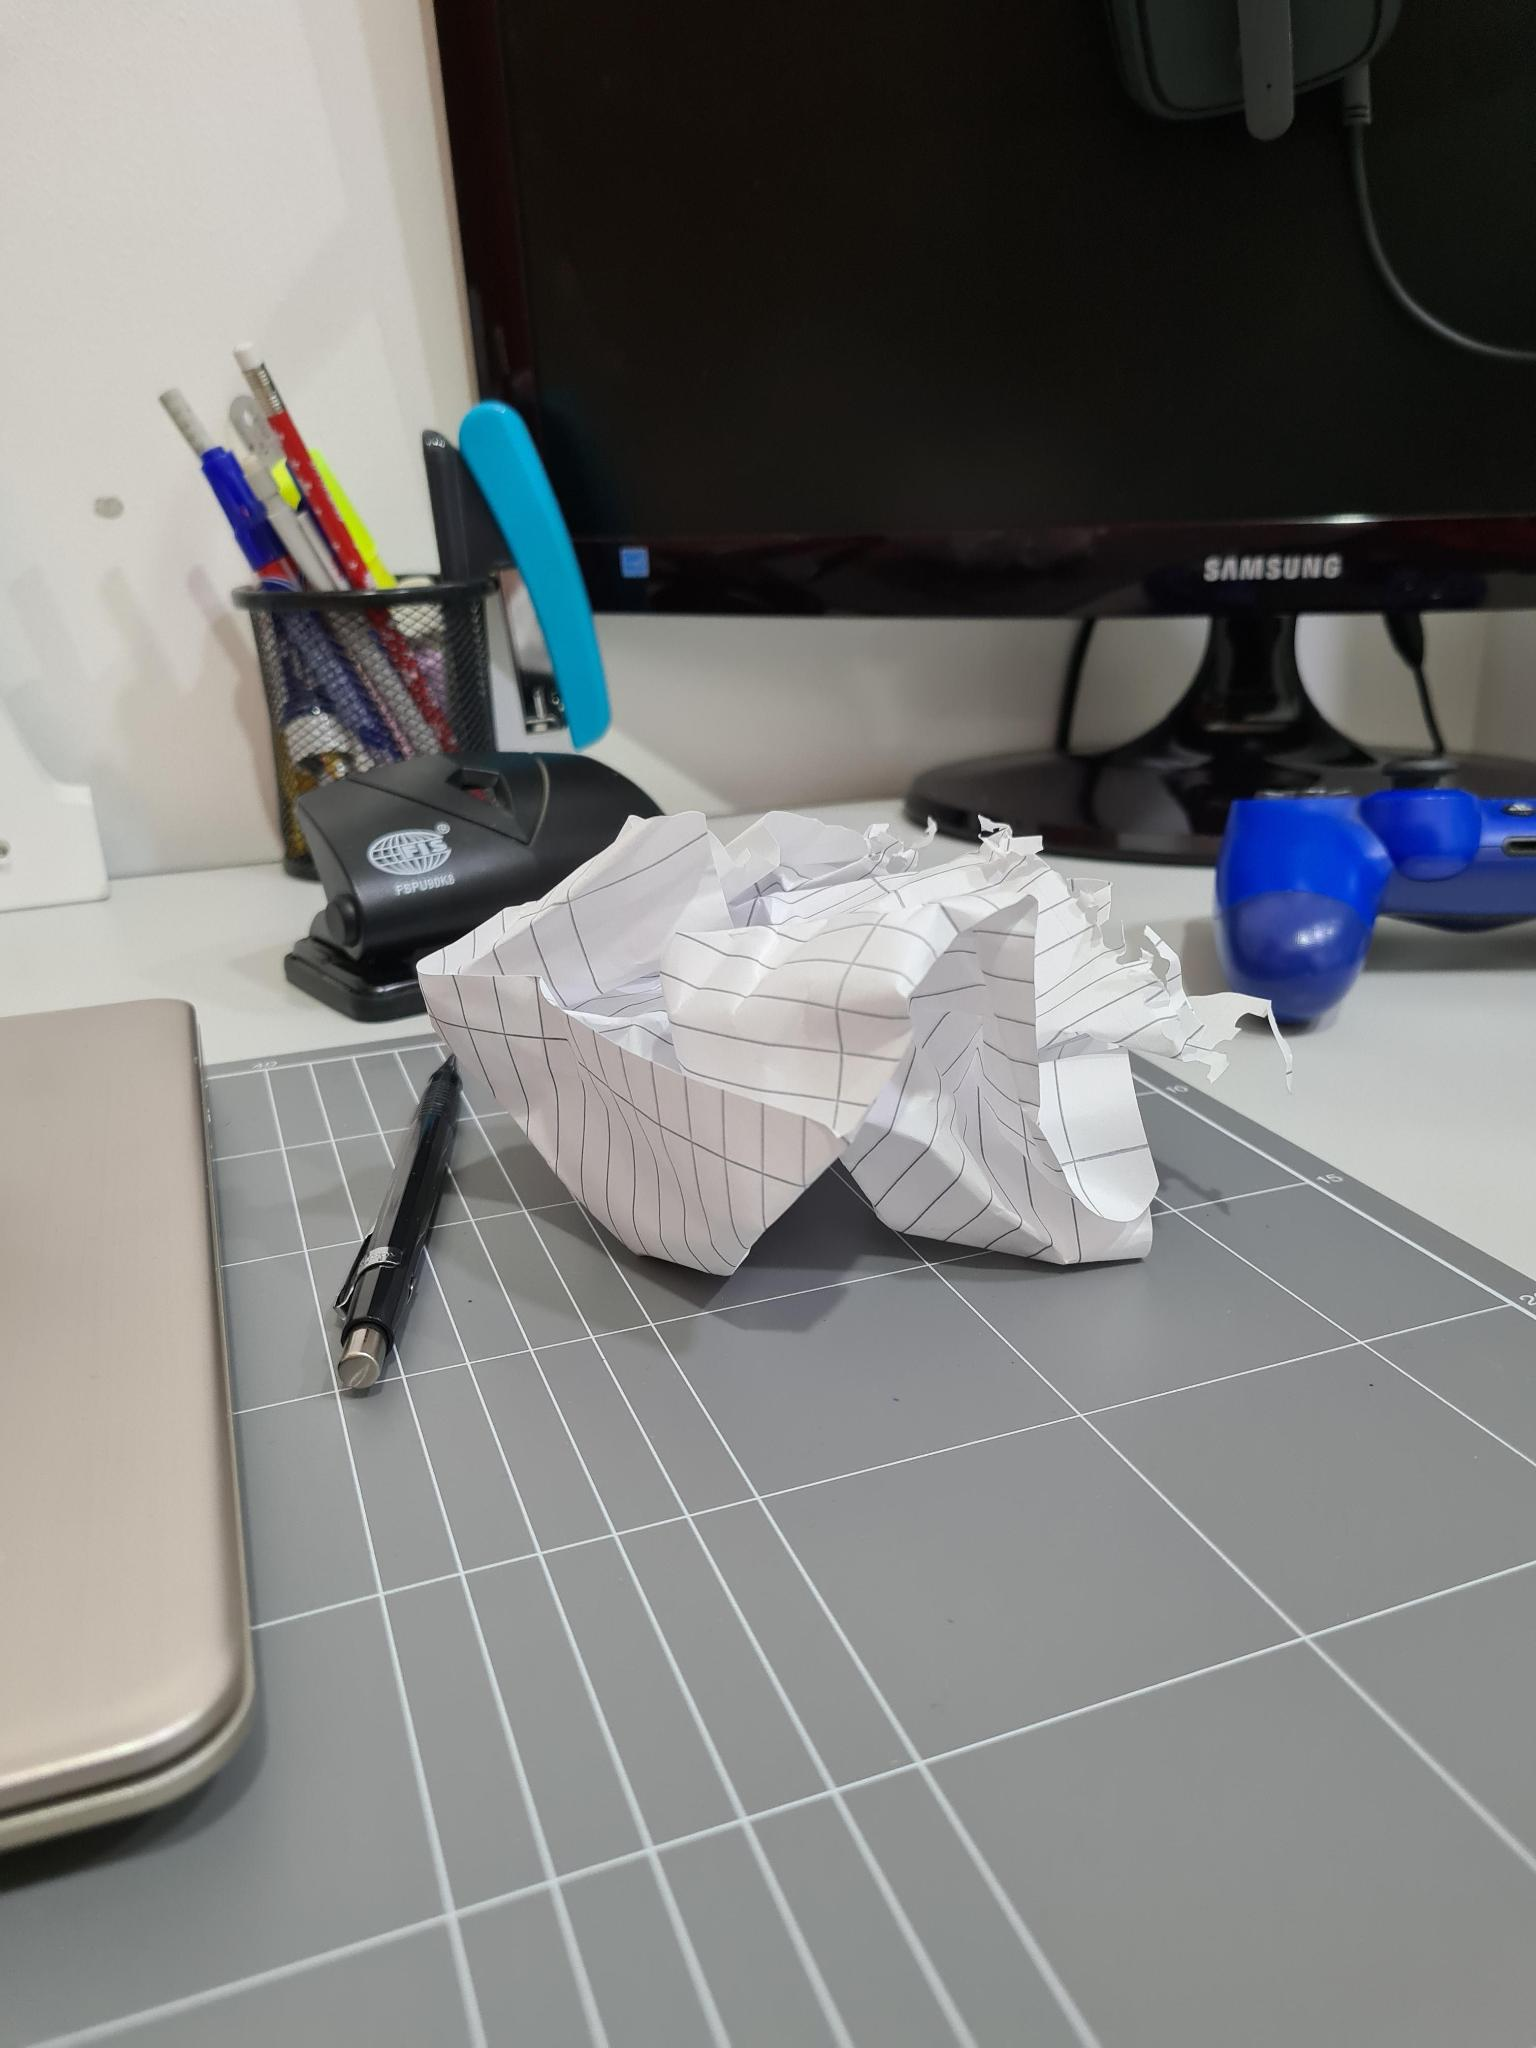metal: (0, 998, 252, 1850)
paper: (419, 813, 1221, 1272)
